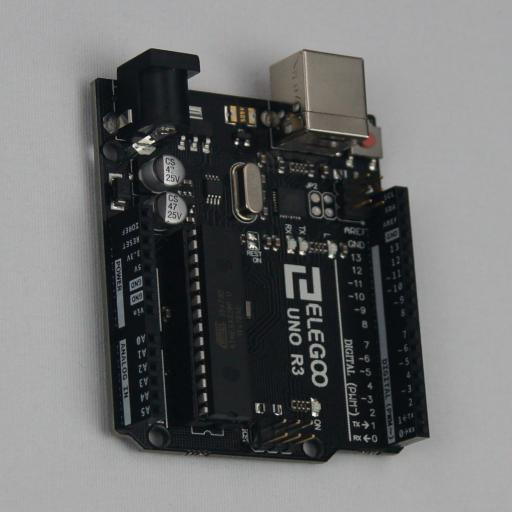Arduino Uno -Black-: (85, 48, 429, 464)
